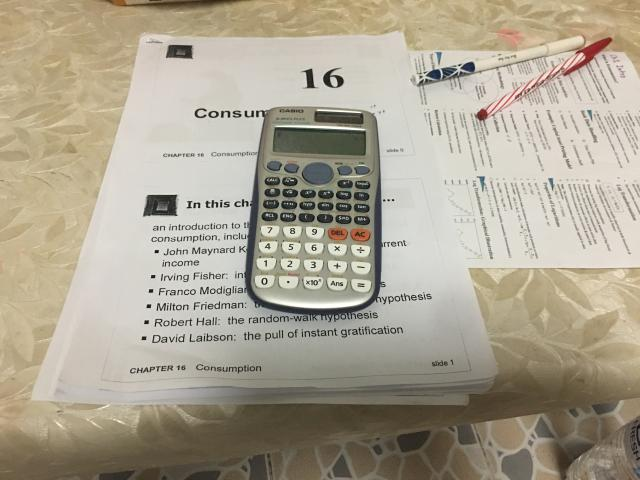Pen: (476, 38, 611, 120), (411, 35, 585, 85)
paper: (32, 32, 498, 405), (410, 51, 640, 268)
